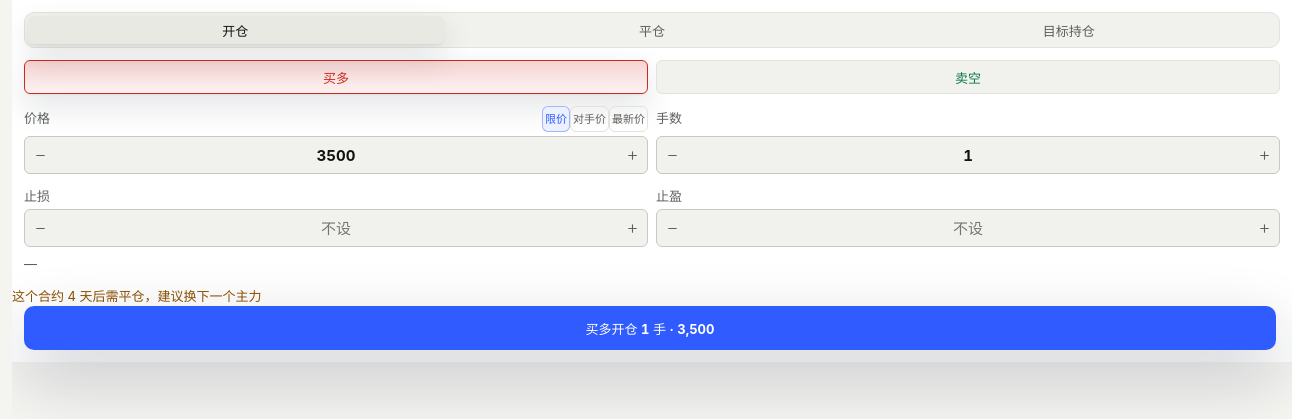
Scenario: 交割提醒的三个落点 › 下单台：开仓模式显示一行提示，平仓与目标持仓不显示
Check: the text with test id "ticket-delivery-hint" reads "这个合约 4 天后需平仓，建议换下一个主力", box [12,288,261,304]
Click the button "平仓" at (652, 30), box [444,15,860,45]
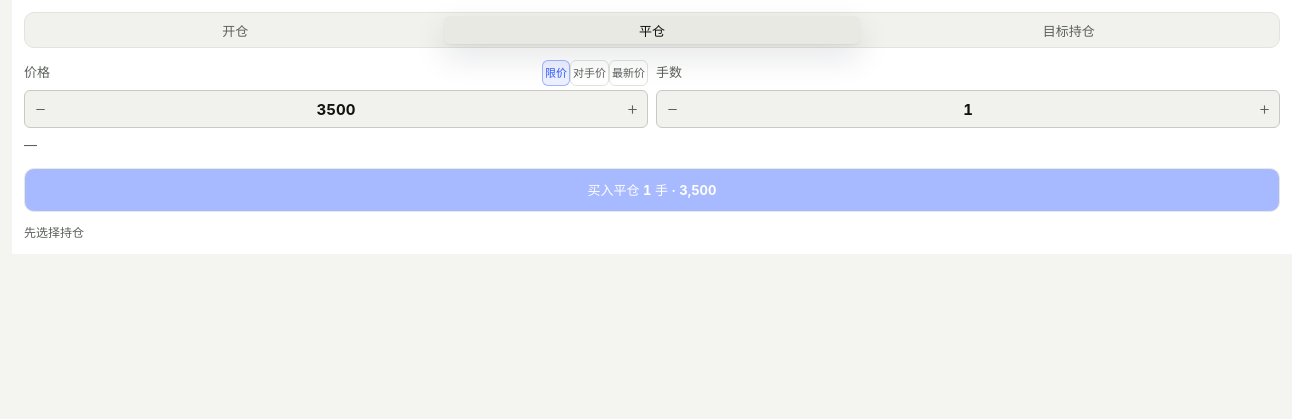
Check: the text with test id "ticket-delivery-hint" is gone
Click the button "开仓" at (235, 30), box [27,15,444,45]
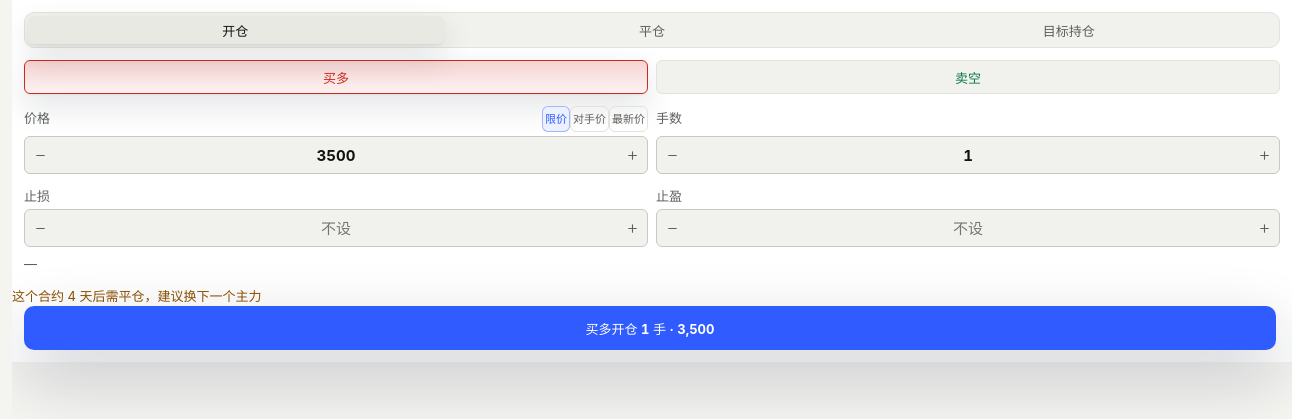
Check: the text "这个合约 4 天后需平仓，建议换下一个主力" is shown, box [12,288,261,304]
